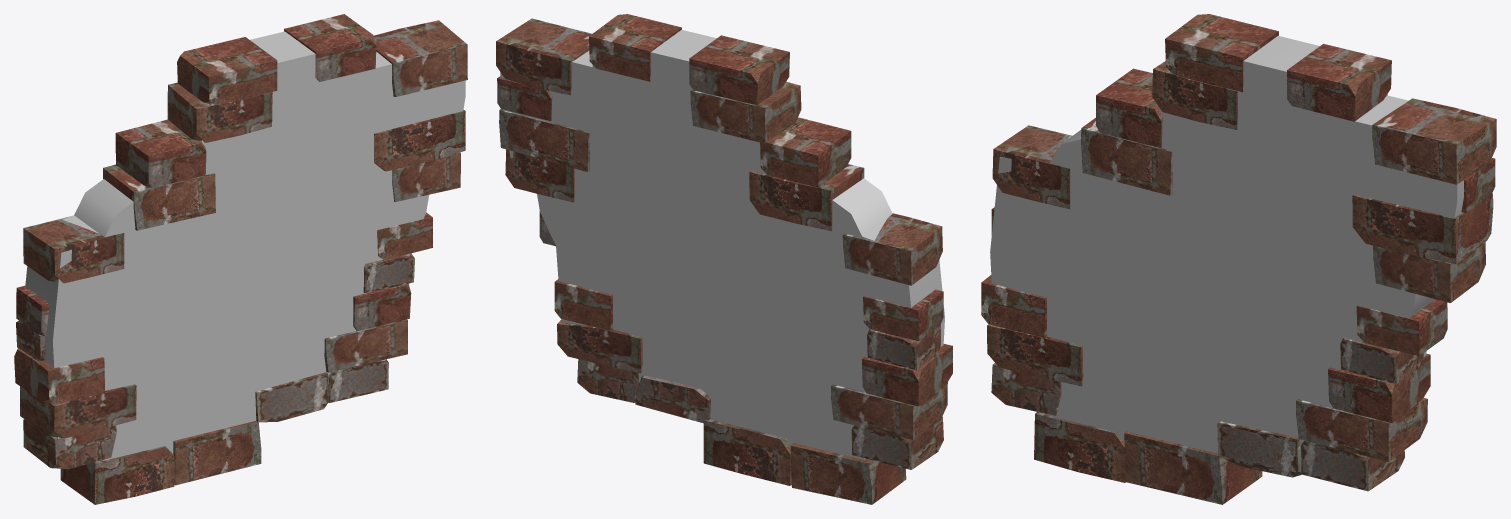
Rendered from SM_Wall_Ruined_33.fbx.
3 views of the same model, side by side, from view 1: azimuth 30°, elevation 25°; view 2: azimuth 150°, elevation 25°; view 3: azimuth 330°, elevation 25° (orthographic). The views are drawn at different scales.
Visible parts, largest first — view 1: SM_Wall_Ruined_33_LOD0; view 2: SM_Wall_Ruined_33_LOD0; view 3: SM_Wall_Ruined_33_LOD0.
Boxes of the visible parts, x1,y1,x2,y2 form: SM_Wall_Ruined_33_LOD0: (14, 14, 467, 504); SM_Wall_Ruined_33_LOD0: (496, 14, 952, 504); SM_Wall_Ruined_33_LOD0: (981, 14, 1496, 504).
Size of what is drawn, in the model's own units: 399 by 361 by 60.04.
